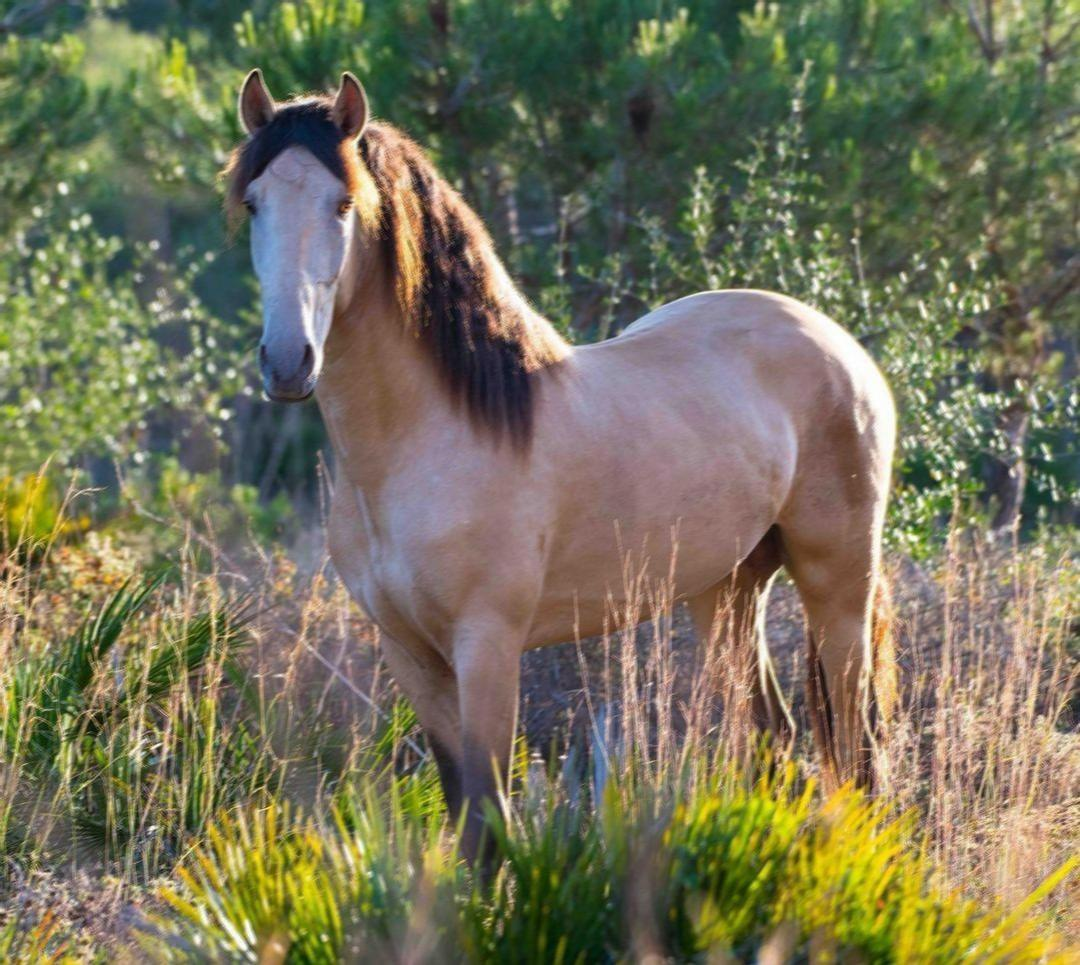horse: (216, 65, 900, 907)
